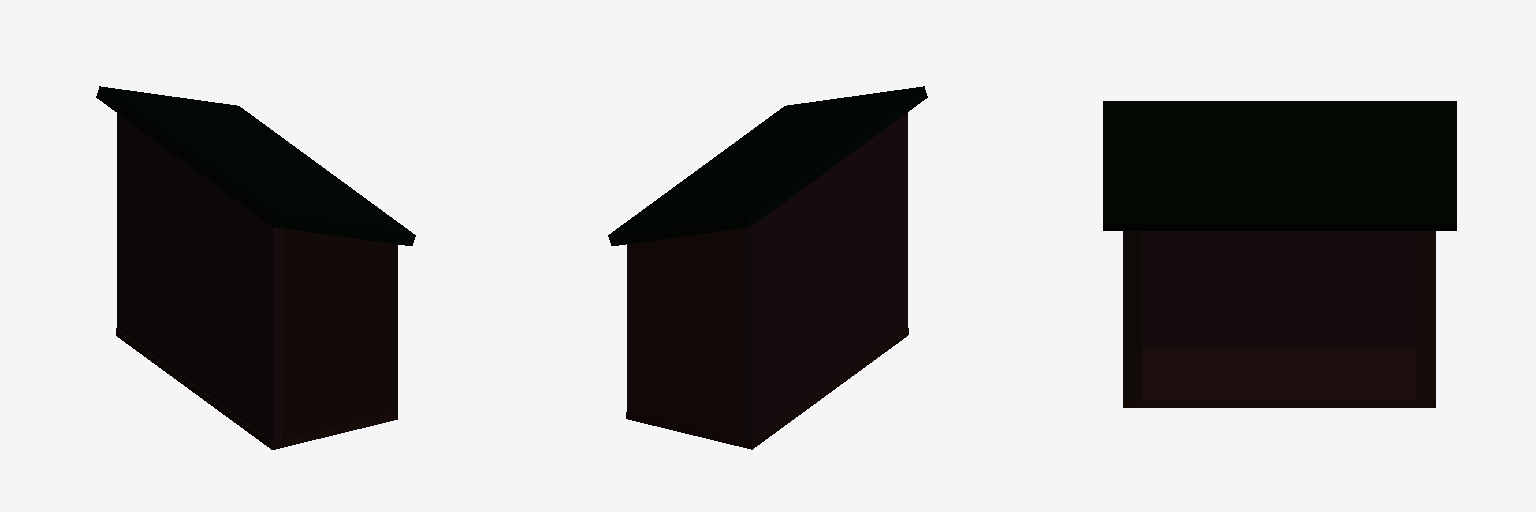
Rendered from shed2.obj.
3 views of the same model, side by side, from view 1: azimuth 30°, elevation 25°; view 2: azimuth 150°, elevation 25°; view 3: azimuth 270°, elevation 25° (orthographic).
Visible parts, largest first — view 1: Cube.001, Cube.003, Cube.004, Cube; view 2: Cube.001, Cube.002, Cube.004, Cube; view 3: Cube.004, Cube.001, Cube, Cube.002, Cube.003.
Part boxes in pixels (x1,y1,x2,y2): Cube.001: (117,113,281,442); Cube.003: (282,228,397,440); Cube.004: (96,86,415,245); Cube: (116,328,397,449); Cube.001: (743,112,907,441); Cube.002: (627,228,742,439); Cube.004: (608,86,927,245); Cube: (626,328,908,449); Cube.004: (1103,101,1456,230); Cube.001: (1142,231,1415,348); Cube: (1123,349,1435,407); Cube.002: (1416,231,1435,400); Cube.003: (1123,231,1141,400).
Size of the model in its own units: 2.14 by 3.47 by 4.59.